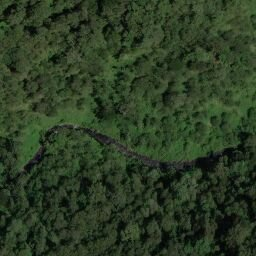forest: (1, 1, 256, 111), (1, 174, 256, 256), (118, 110, 256, 146), (43, 125, 85, 172), (85, 146, 123, 174), (1, 134, 17, 176)
